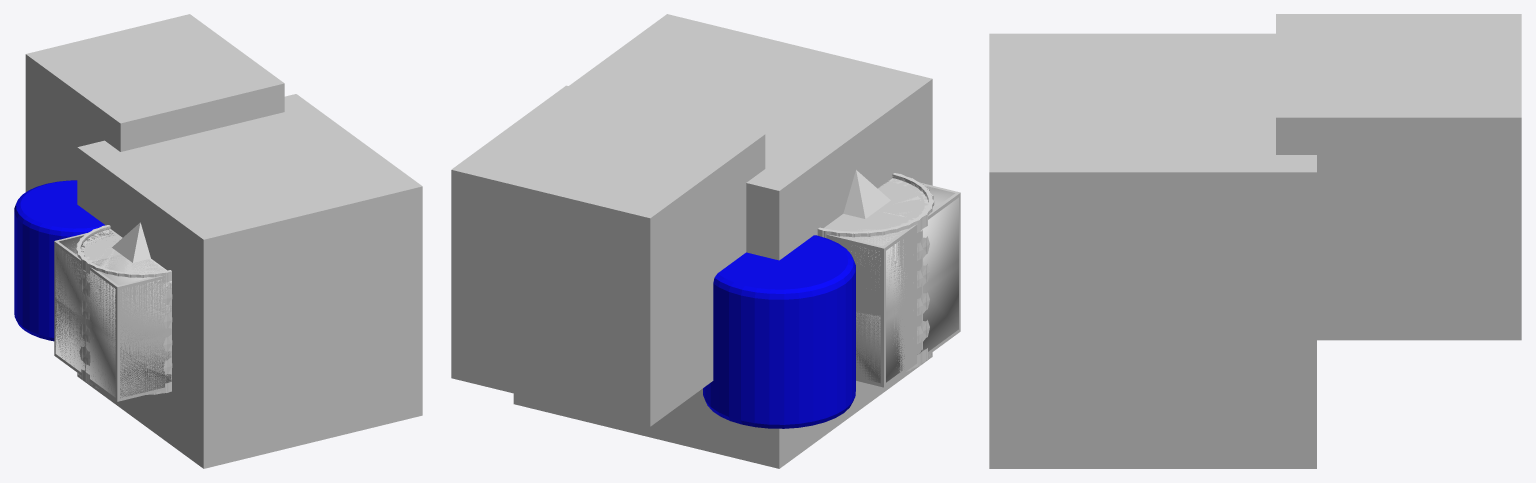
File: phase2_toolkit_test.glb
The picture shows the model from 3 angles, left to right: view 1: azimuth 30°, elevation 25°; view 2: azimuth 150°, elevation 25°; view 3: azimuth 270°, elevation 25°; orthographic projection. The views are drawn at different scales.
Parts seen in each view (by area): view 1: BaseObj_334_copy, LiveCube_1794648370, MeshOpsCube_502, BaseObj_334, Blue_Cylinder, Gear_Body, Blue_Cylinder.001, CustomPyramid_478; view 2: LiveCube_1794648370, BaseObj_334_copy, Blue_Cylinder, BaseObj_334, MeshOpsCube_502, Gear_Body, Test_cylinder_1031, CustomPyramid_478, Blue_Cylinder.001; view 3: BaseObj_334_copy, LiveCube_1794648370.
Boxes of the visible parts, x1,y1,x2,y2 form: BaseObj_334_copy: (77, 94, 422, 468); LiveCube_1794648370: (25, 14, 284, 191); MeshOpsCube_502: (55, 229, 171, 398); BaseObj_334: (54, 233, 171, 401); Blue_Cylinder: (14, 180, 105, 341); Gear_Body: (76, 225, 172, 394); Blue_Cylinder.001: (84, 232, 164, 273); CustomPyramid_478: (112, 222, 150, 262); LiveCube_1794648370: (451, 85, 765, 426); BaseObj_334_copy: (513, 14, 932, 468); Blue_Cylinder: (703, 235, 855, 428); BaseObj_334: (826, 182, 960, 387); MeshOpsCube_502: (849, 178, 958, 383); Gear_Body: (817, 173, 934, 371); Test_cylinder_1031: (824, 178, 928, 231); CustomPyramid_478: (843, 170, 890, 218); Blue_Cylinder.001: (824, 193, 924, 231); BaseObj_334_copy: (989, 33, 1316, 468); LiveCube_1794648370: (1276, 14, 1521, 340).
Bounding box in the file's own units: 5.03 × 4.5 × 6.5.
